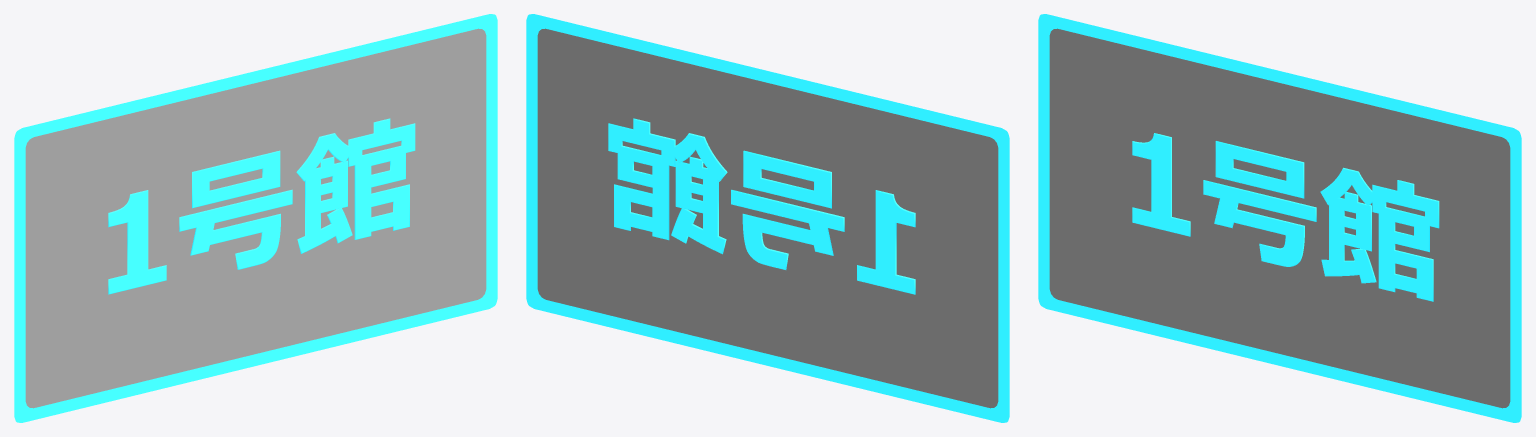
The model's file is TextPlate0.gltf.
The picture shows the model from 3 angles, left to right: view 1: azimuth 30°, elevation 25°; view 2: azimuth 150°, elevation 25°; view 3: azimuth 330°, elevation 25°; orthographic projection.
Visible parts, largest first — view 1: 平面, 1号館; view 2: 平面, 1号館; view 3: 平面, 1号館.
Boxes of the visible parts, box(x1,y1,x2,y2) form: 平面: box(14, 14, 497, 422); 1号館: box(108, 118, 415, 294); 平面: box(526, 14, 1009, 422); 1号館: box(608, 118, 915, 294); 平面: box(1038, 14, 1521, 422); 1号館: box(1132, 133, 1439, 301).
Size of the model in its own units: 2.65 by 1.55 by 0.01.
